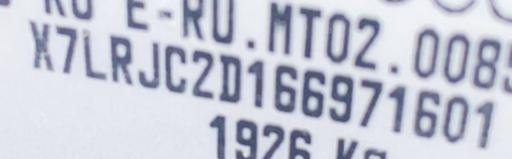letter: (78, 25, 110, 82), (26, 16, 56, 71), (160, 40, 190, 95), (106, 33, 138, 84), (52, 21, 82, 75), (411, 87, 441, 139), (136, 37, 164, 92), (189, 46, 217, 99), (270, 62, 300, 111), (443, 90, 471, 140), (356, 77, 384, 126), (216, 53, 244, 102), (384, 81, 408, 137), (472, 97, 498, 148), (243, 57, 269, 108), (328, 72, 354, 123), (302, 65, 324, 116)
